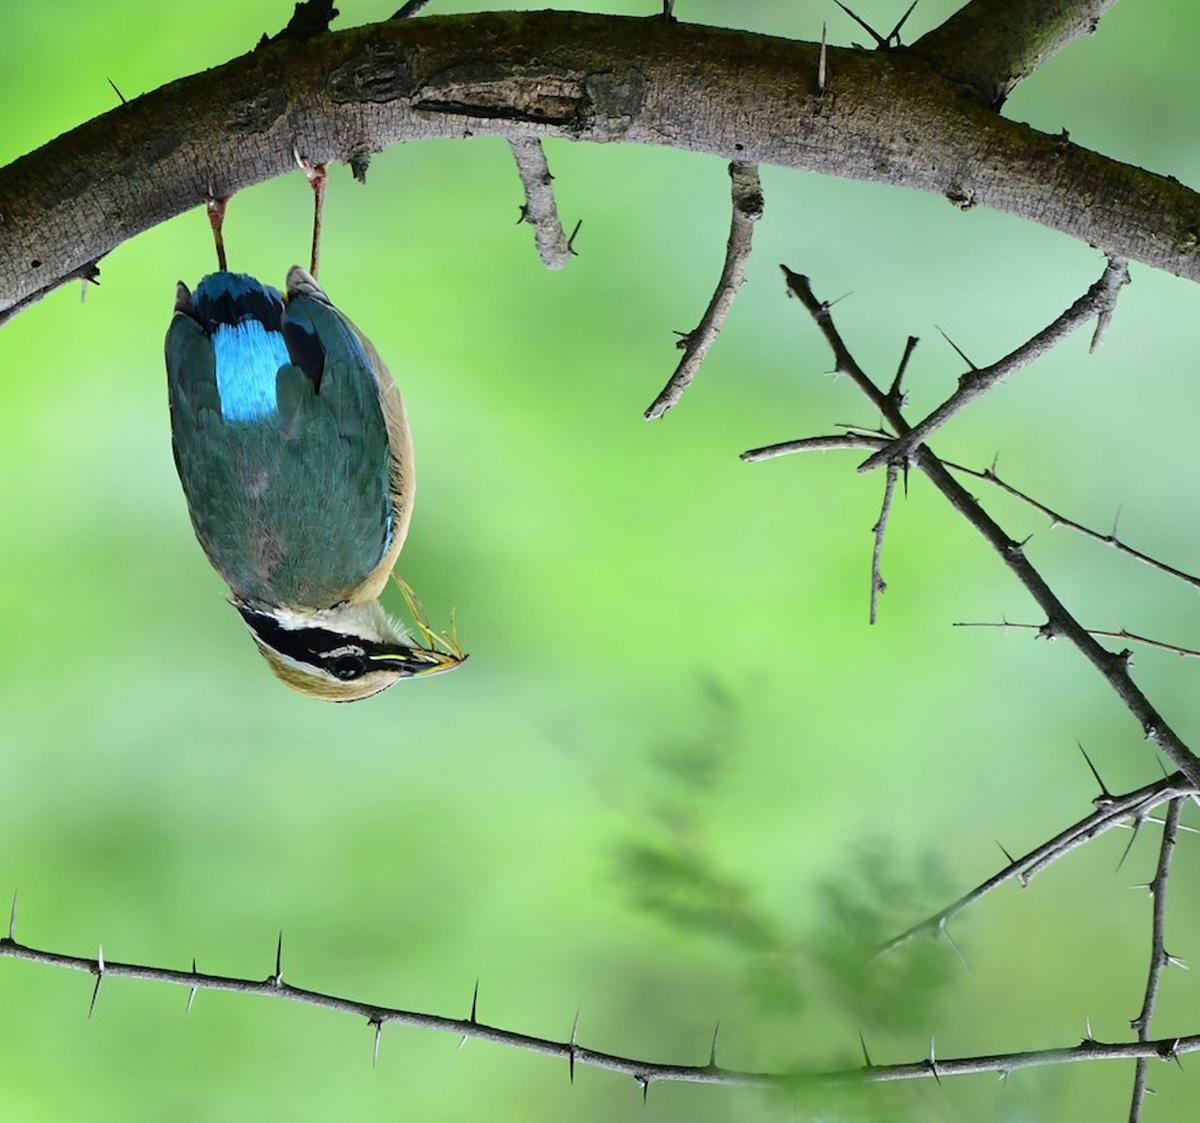pitta: (39, 210, 515, 772)
